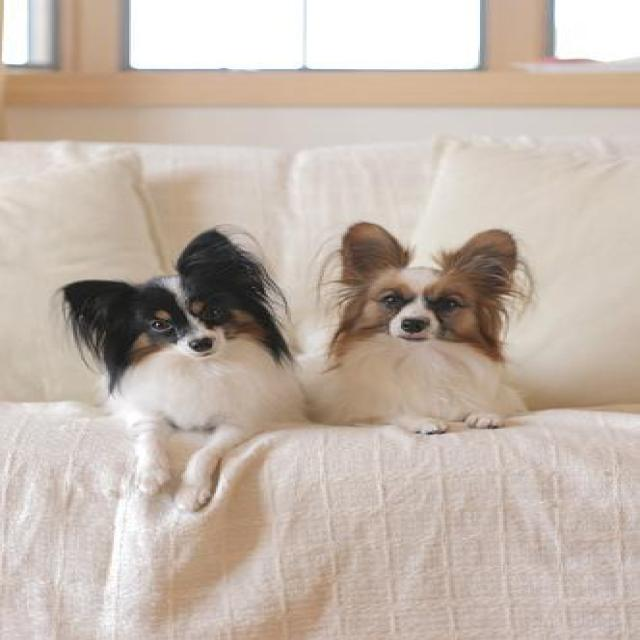papillon: (42, 223, 312, 513), (308, 211, 542, 439)
